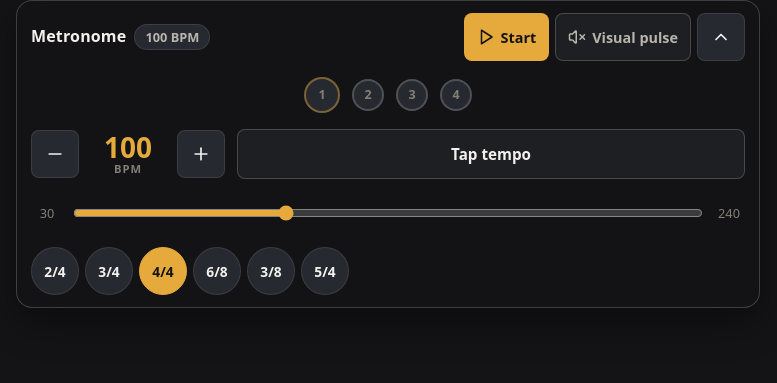
Test: MetronomeOverlay & PianoOverlay UI › renders MetronomeOverlay in English and toggles sound click
Expected: the text "Visual pulse" is shown, [592,28,678,46]
Step 1. Click the button with aria-label "Toggle sound" → coordinates (623, 37), box [555,13,691,61]
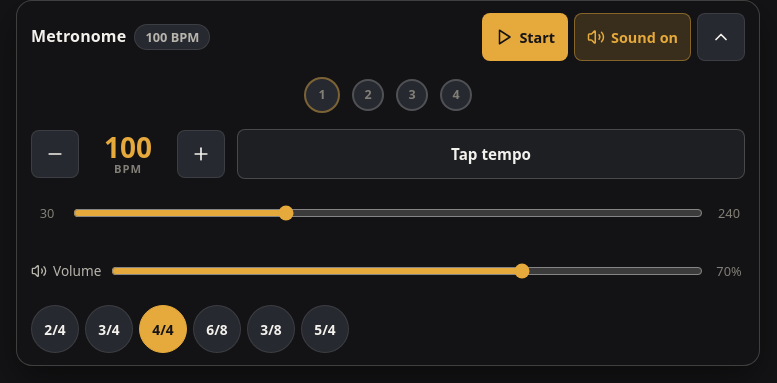
Now the text "Sound on" is shown, box [611,28,678,46]
Now the slider named "Volume" is shown, box [111,247,703,295]
